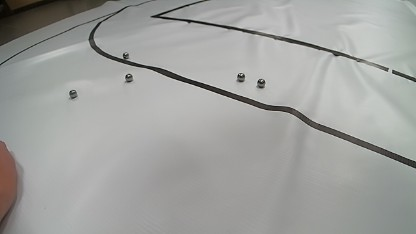ironball: (257, 78, 265, 88), (237, 72, 245, 81), (125, 73, 133, 82), (69, 89, 77, 98), (122, 52, 129, 59)
